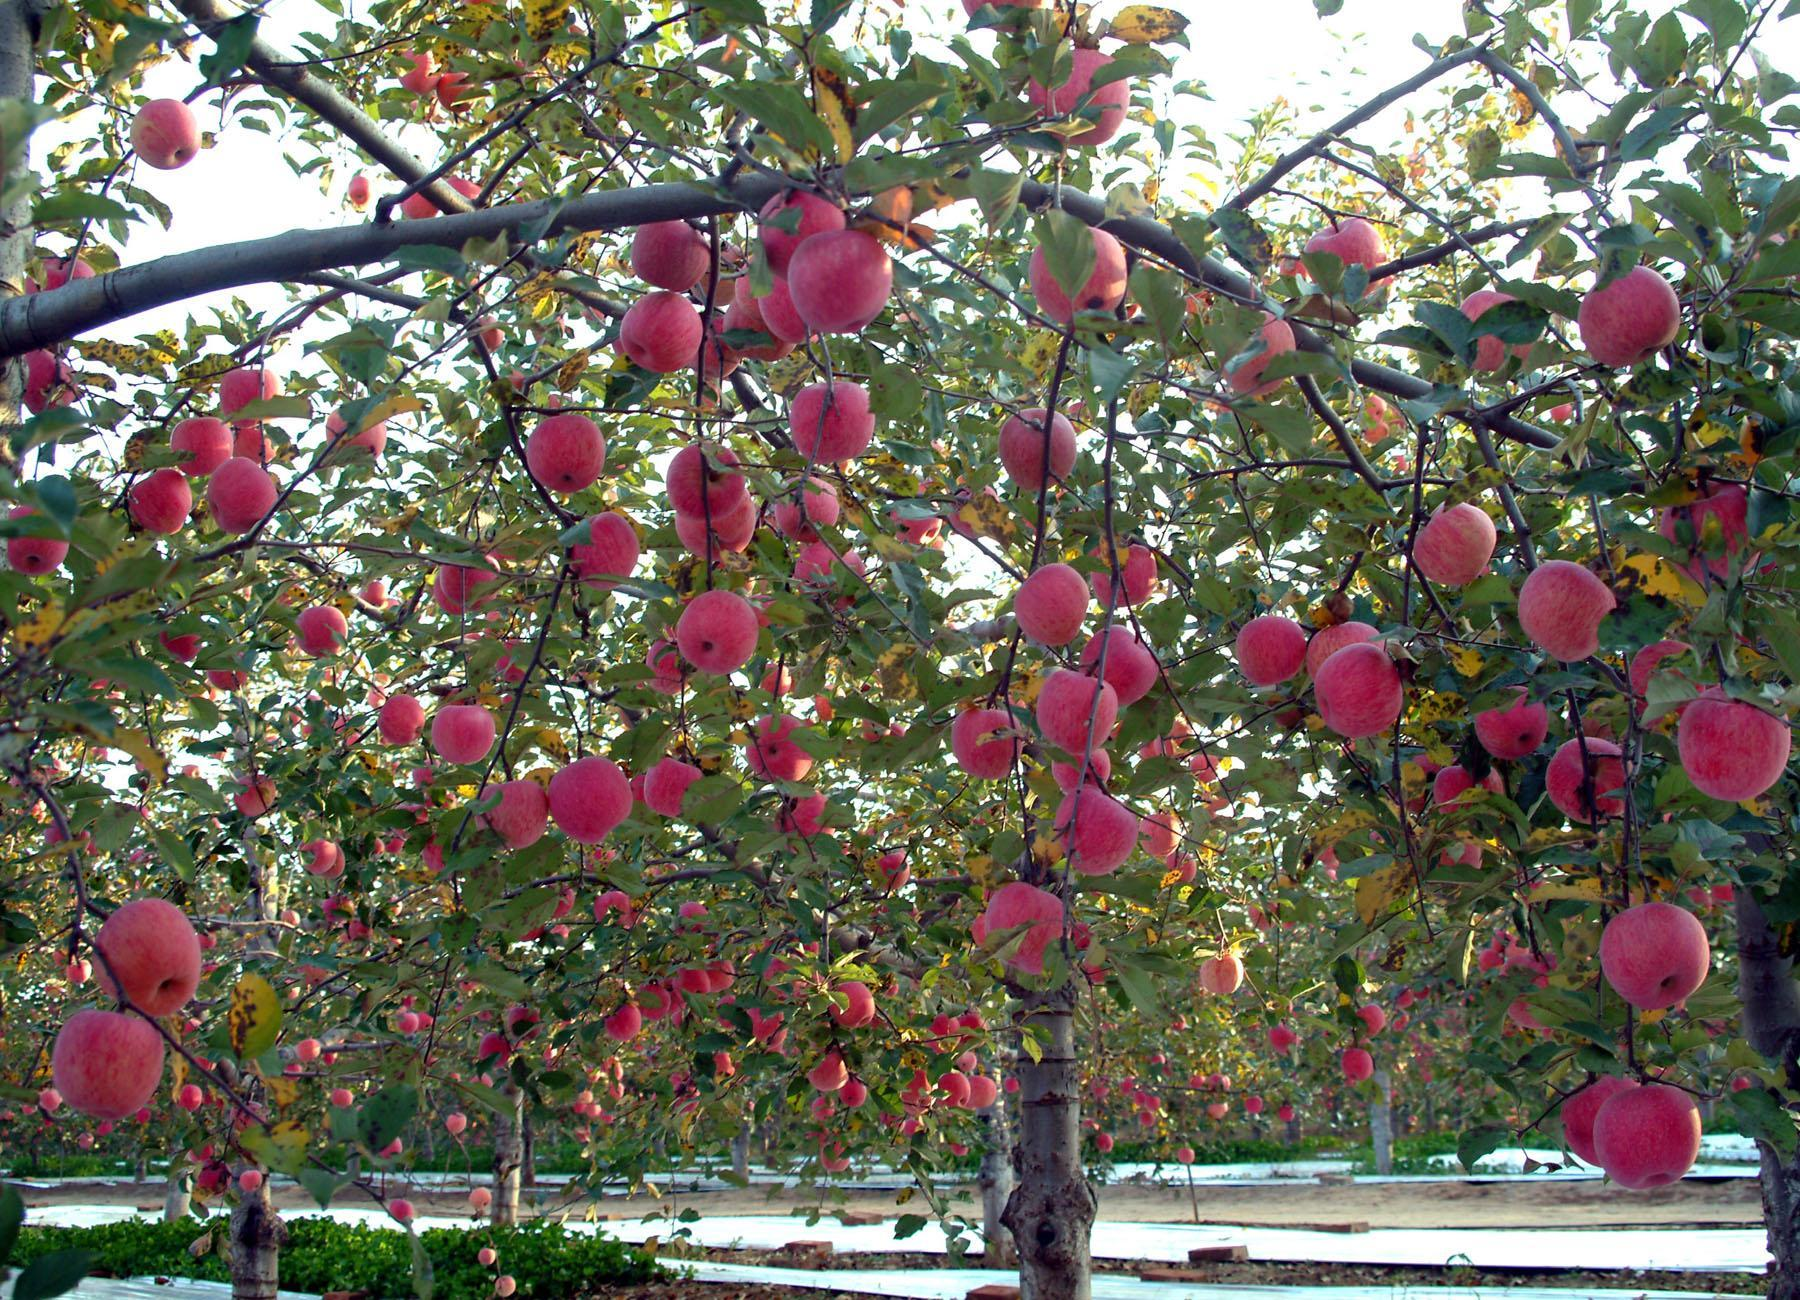apple: (89, 897, 203, 1023), (1678, 681, 1793, 801), (1595, 895, 1711, 1009), (59, 1009, 169, 1127), (1030, 212, 1129, 333), (791, 226, 899, 333), (1595, 1082, 1699, 1191), (1520, 556, 1611, 663), (1581, 264, 1676, 363), (1453, 287, 1544, 386), (1038, 48, 1126, 147), (546, 751, 634, 847), (1314, 646, 1400, 739), (756, 185, 844, 275), (984, 879, 1070, 969), (672, 587, 759, 674), (620, 291, 709, 376), (523, 411, 605, 498), (627, 212, 711, 296), (1057, 787, 1135, 876), (1221, 302, 1295, 396), (1418, 498, 1494, 588), (1008, 559, 1090, 642), (798, 377, 878, 463), (1219, 306, 1295, 393), (669, 492, 762, 563), (1038, 665, 1112, 753), (667, 440, 745, 521), (1628, 635, 1704, 718), (560, 512, 640, 587), (949, 707, 1024, 783), (1231, 614, 1309, 686), (1083, 628, 1159, 702), (790, 535, 864, 608), (205, 457, 275, 534), (474, 779, 549, 848), (1301, 215, 1386, 275), (130, 98, 200, 171), (762, 257, 813, 347), (774, 472, 845, 537), (1091, 540, 1154, 609), (127, 467, 191, 534), (168, 415, 232, 477), (430, 703, 493, 765), (646, 758, 709, 816), (295, 602, 349, 657), (218, 368, 280, 407), (384, 693, 425, 744)
